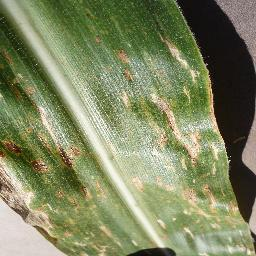Gray_Leaf_Spot: (140, 29, 256, 256), (1, 138, 88, 209), (19, 211, 127, 256), (0, 108, 54, 138), (116, 49, 139, 110), (0, 89, 41, 106), (87, 179, 104, 210), (0, 70, 24, 91), (0, 41, 13, 69), (127, 166, 139, 192), (90, 31, 102, 45)
